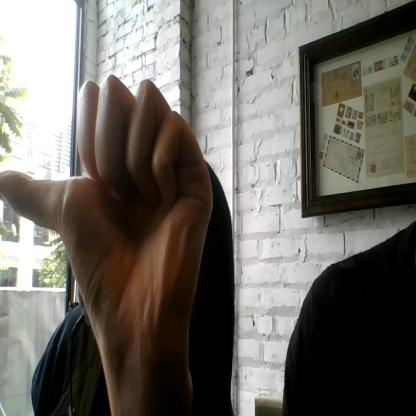right: (0, 78, 215, 337)
